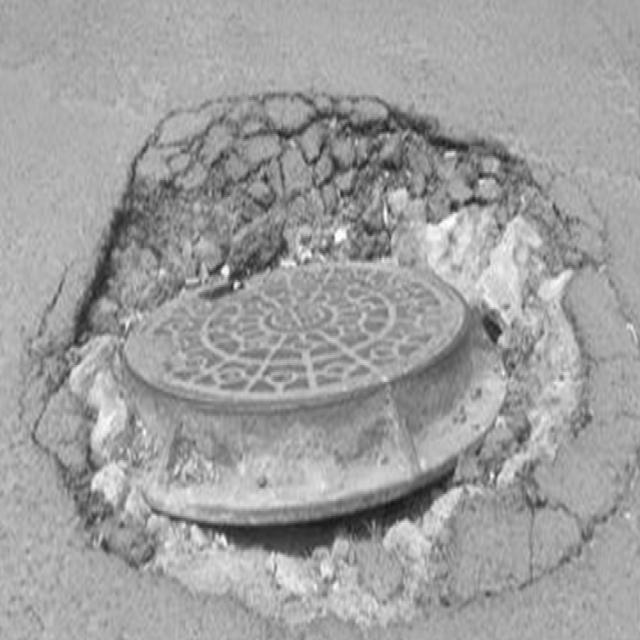manhole: (122, 264, 505, 526)
